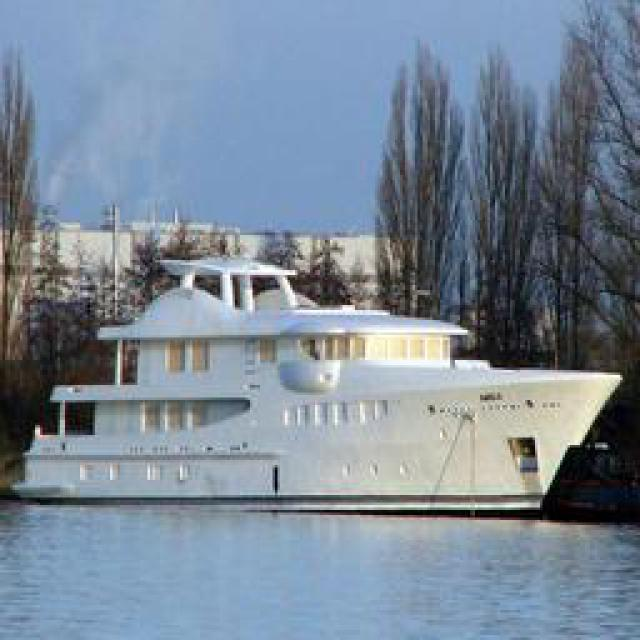Ship: (24, 255, 627, 513)
